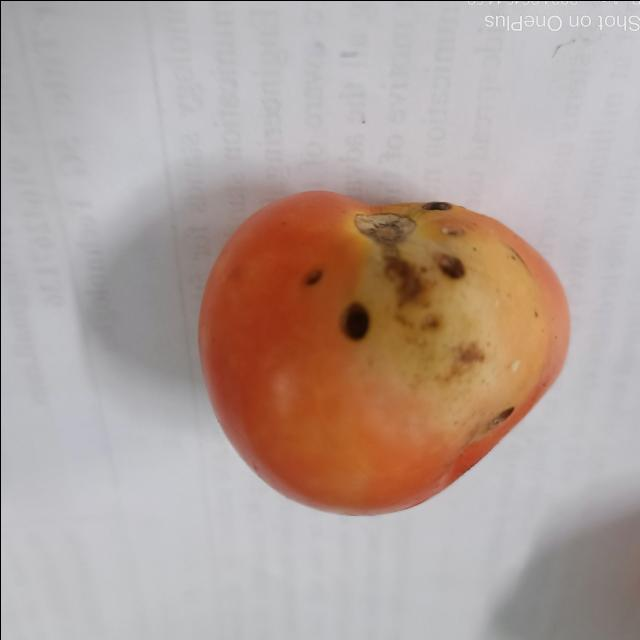fruitworm_bore: (302, 259, 376, 345), (430, 245, 470, 290)
